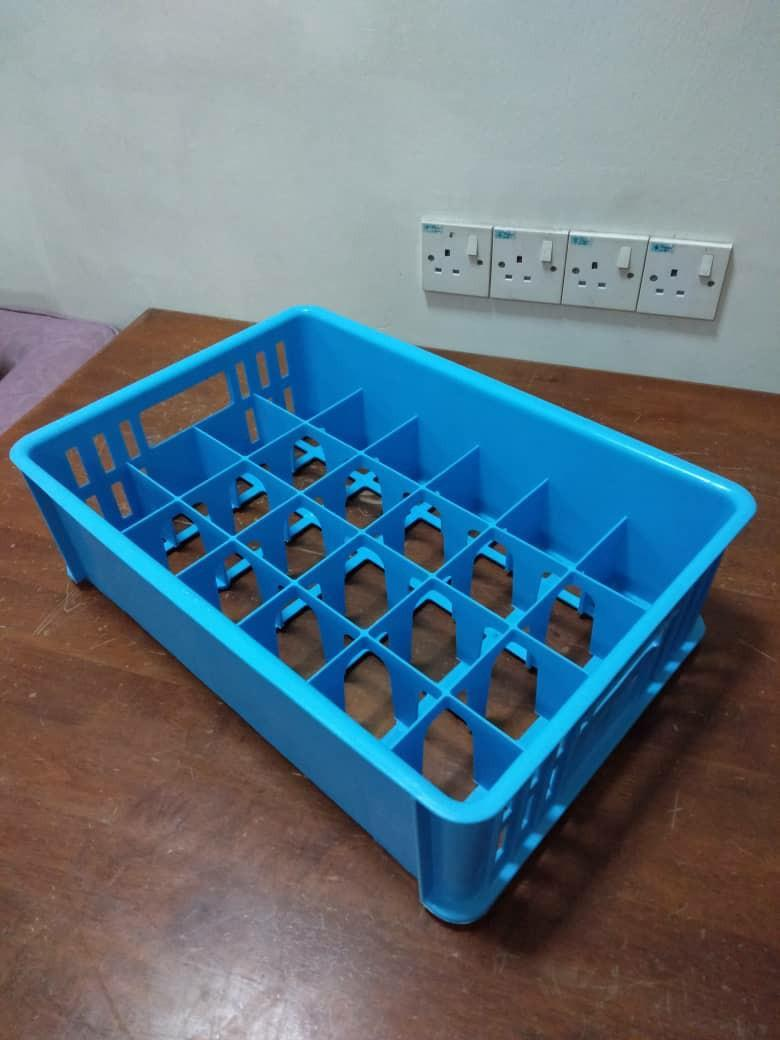plastic: (13, 307, 755, 923)
